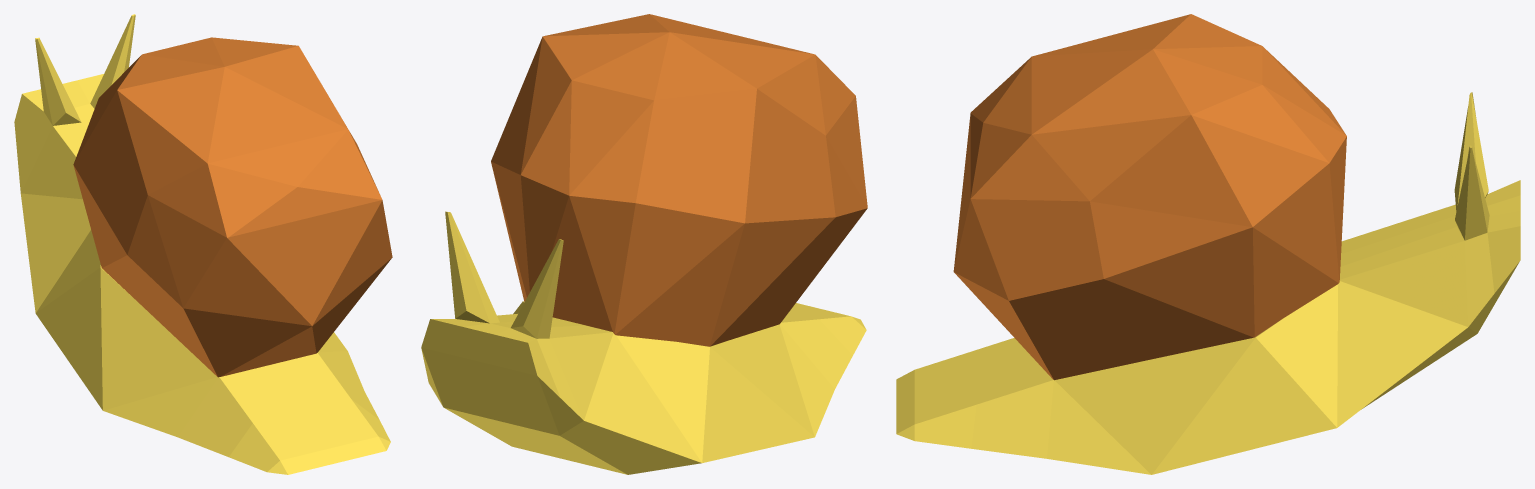
The model's file is snail_brown.fbx.
3 renders of one model, left to right at view 1: azimuth 30°, elevation 25°; view 2: azimuth 150°, elevation 25°; view 3: azimuth 270°, elevation 25°, orthographic. The views are drawn at different scales.
Parts seen in each view (by area): view 1: Cube.001, Cube; view 2: Cube.001, Cube; view 3: Cube.001, Cube.
Part boxes in pixels (<box>): Cube.001: <box>73,37,392,377</box>; Cube: <box>14,14,390,474</box>; Cube.001: <box>491,14,867,346</box>; Cube: <box>421,211,866,474</box>; Cube.001: <box>953,14,1346,380</box>; Cube: <box>896,92,1520,474</box>.
Bounding box in the file's own units: 166 × 203 × 321.
Materials: 2 (2 with a texture image).
